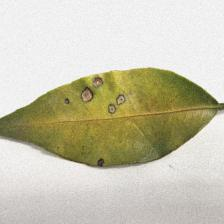canker: (61, 71, 130, 170)
